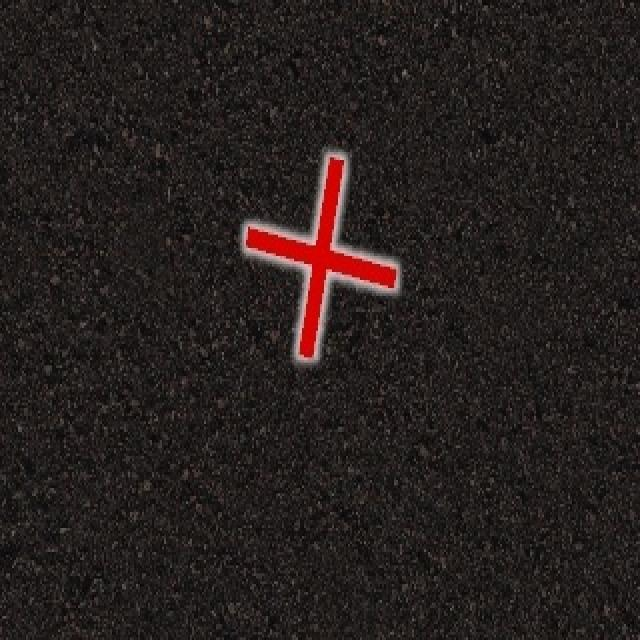x_marker: (245, 156, 395, 356)
